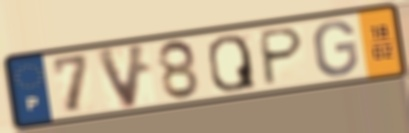7: (50, 51, 92, 116)
8: (156, 38, 201, 103)
G: (312, 19, 361, 79)
P: (259, 25, 307, 89)
Q: (206, 33, 259, 94)
V: (93, 40, 150, 112)
